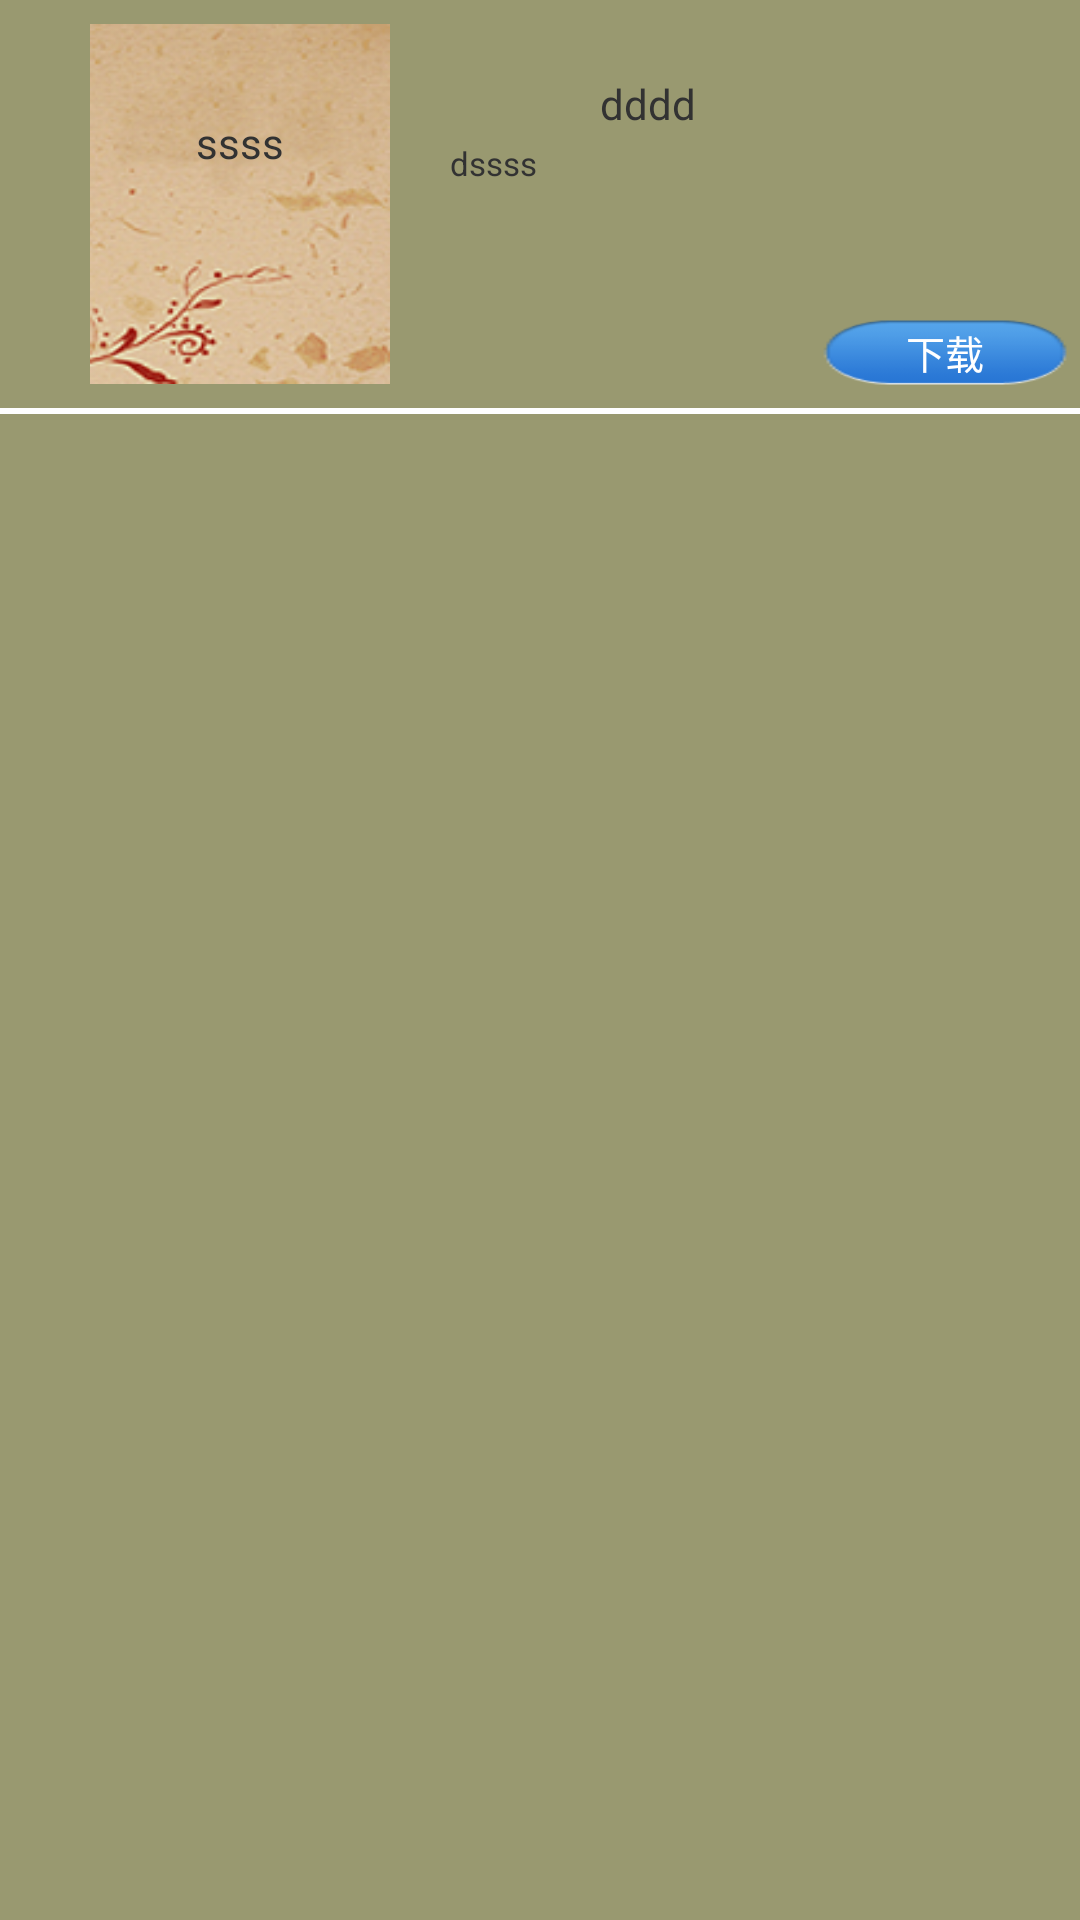

Named icons in this screenshot (1080w x 1920h) and their bounding boxes, (x1, y1, x2, y2):
down book: (90, 24, 390, 384)
